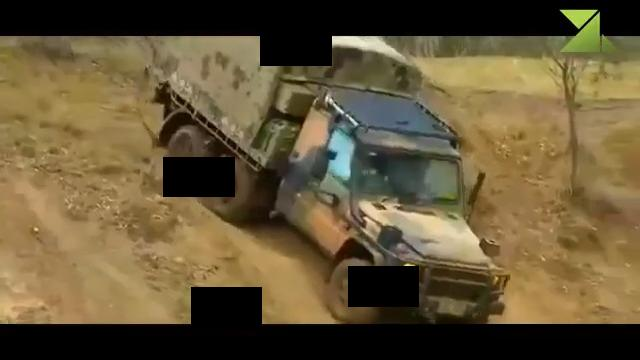MIL_HMMWV: (141, 36, 510, 324)
